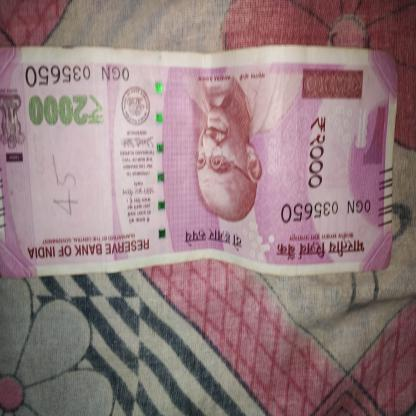New2000Front: (0, 47, 397, 264)
